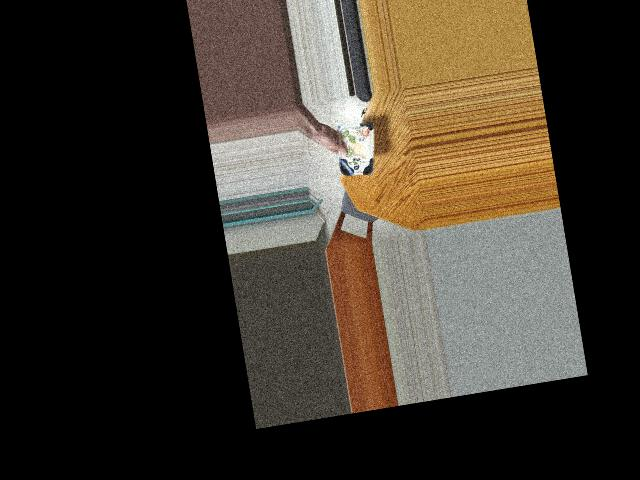cheese: (334, 125, 377, 176)
